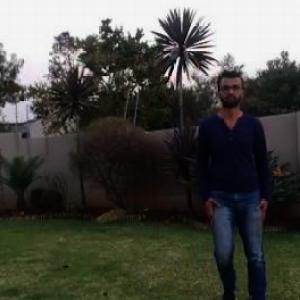follow: (188, 46, 282, 299)
